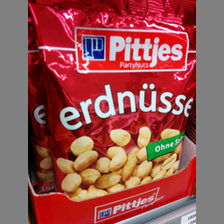nuts: (29, 1, 198, 199)
